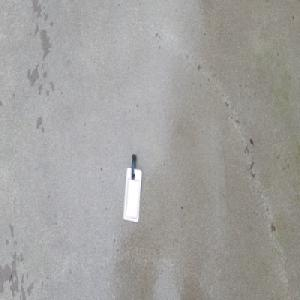LuggageTag: (121, 152, 141, 223)
